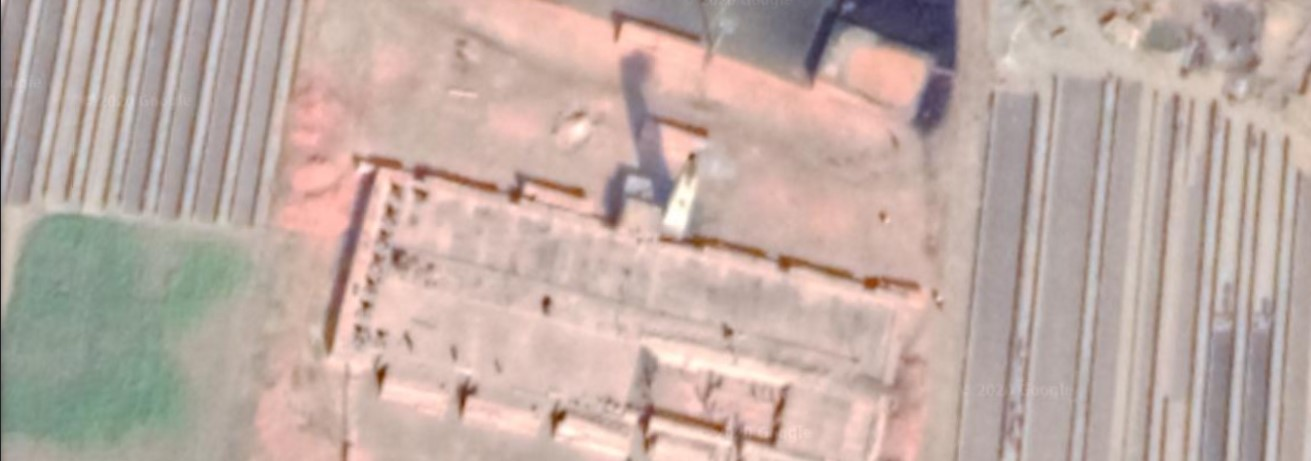kiln: (346, 73, 919, 452)
